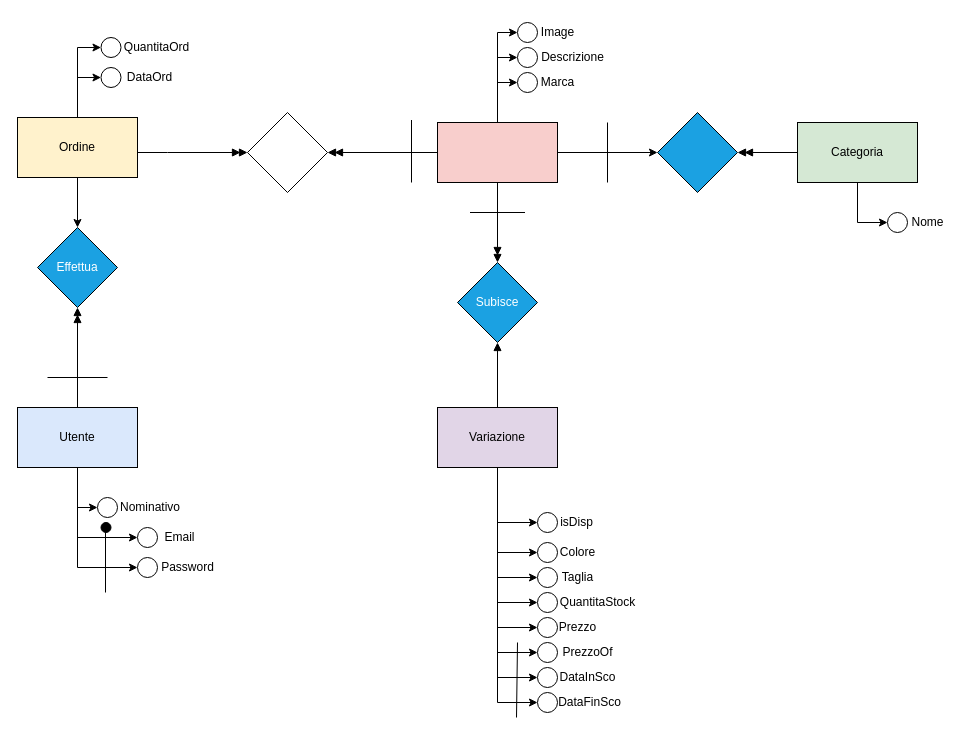
The diagram is 975 pixels wide and 736 high, and some of its shapes have lost their labels. Here are the shapes that lost their labels. From the top down, the centre of each, then its label:
(287,152): Prodotto Ordine
(497,152): Prodotto
(697,152): Appartiene
